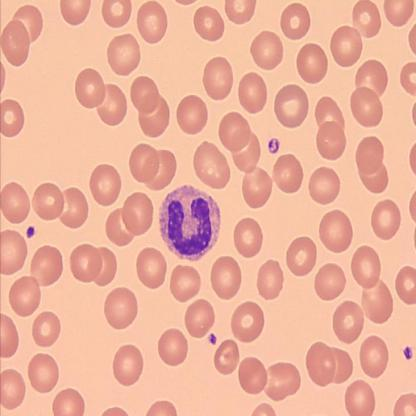Band Neutrophil: (156, 182, 222, 264)
